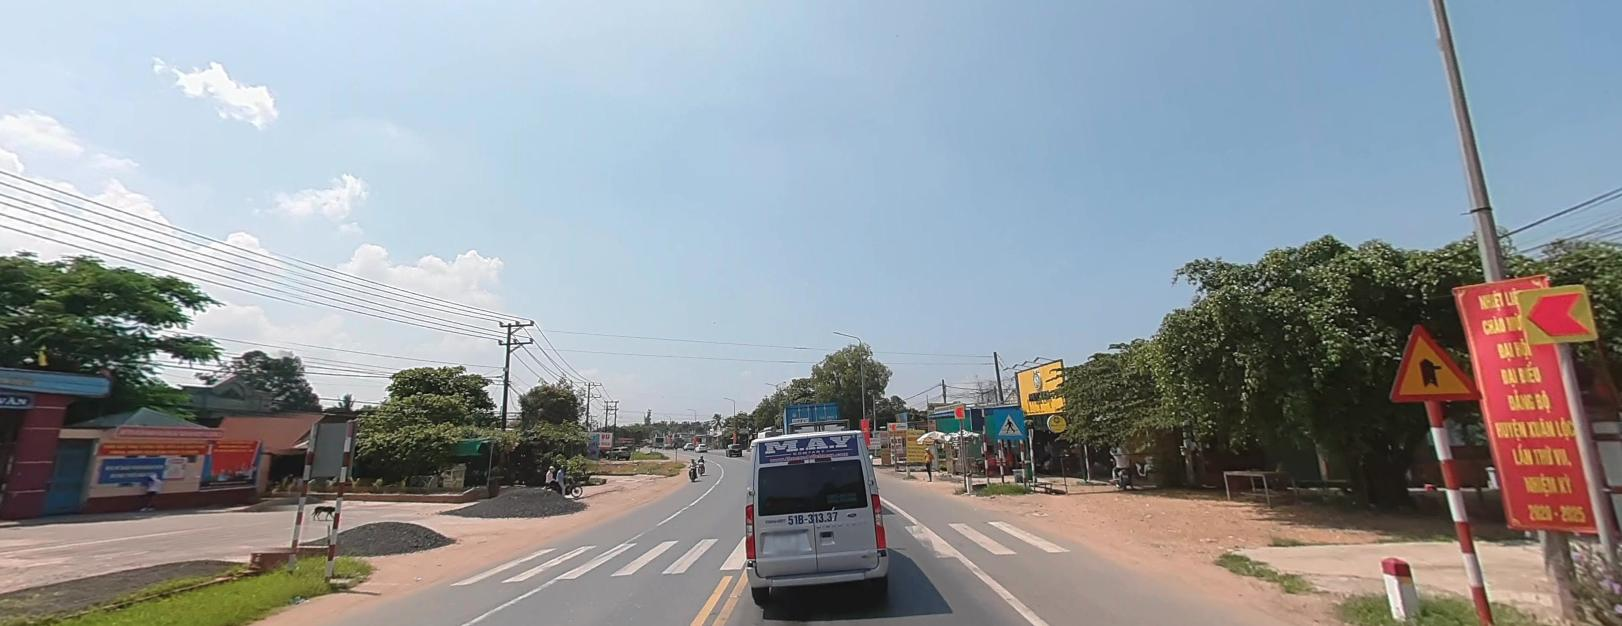Nguy hiem: (1385, 323, 1485, 405)
